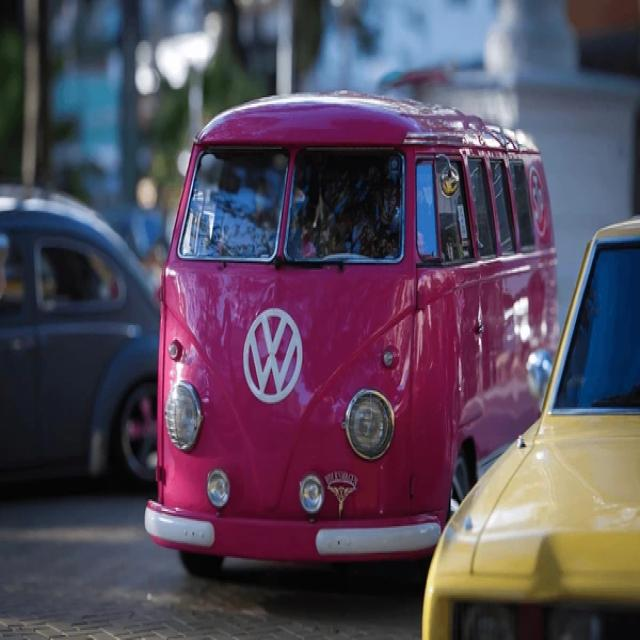wolksvogen: (240, 306, 309, 407)
